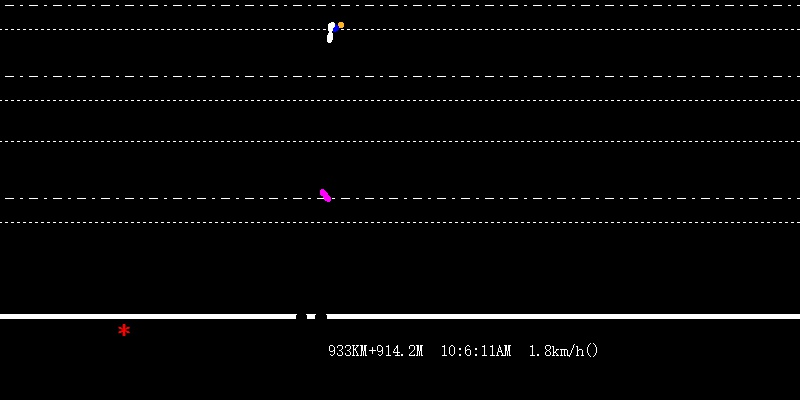face_s: (326, 18, 336, 46)
star: (115, 323, 130, 336)
